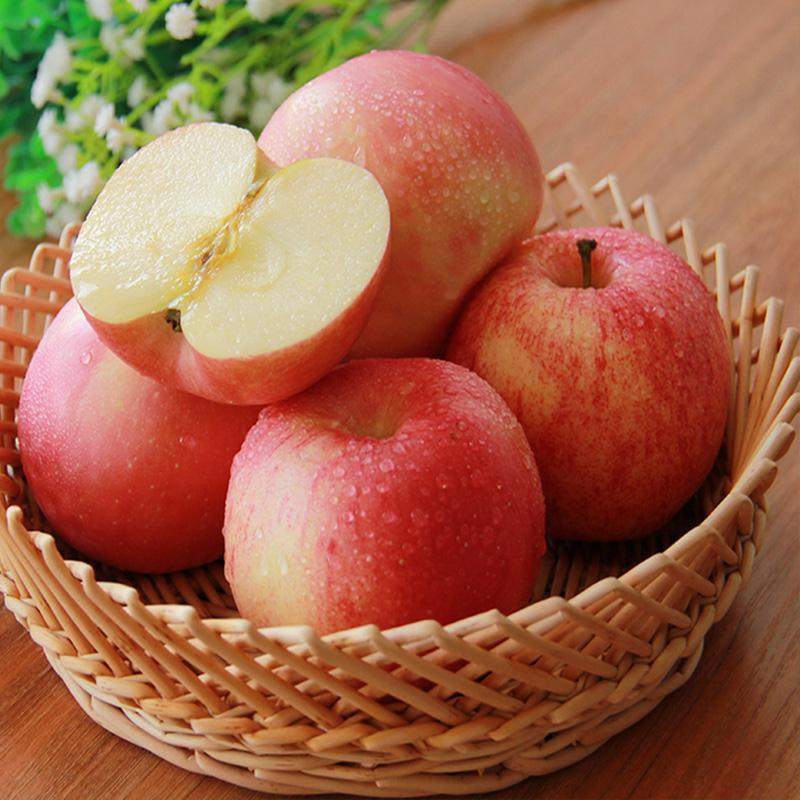apple: (230, 356, 556, 642), (448, 231, 740, 544), (253, 49, 544, 350), (20, 334, 260, 587)
